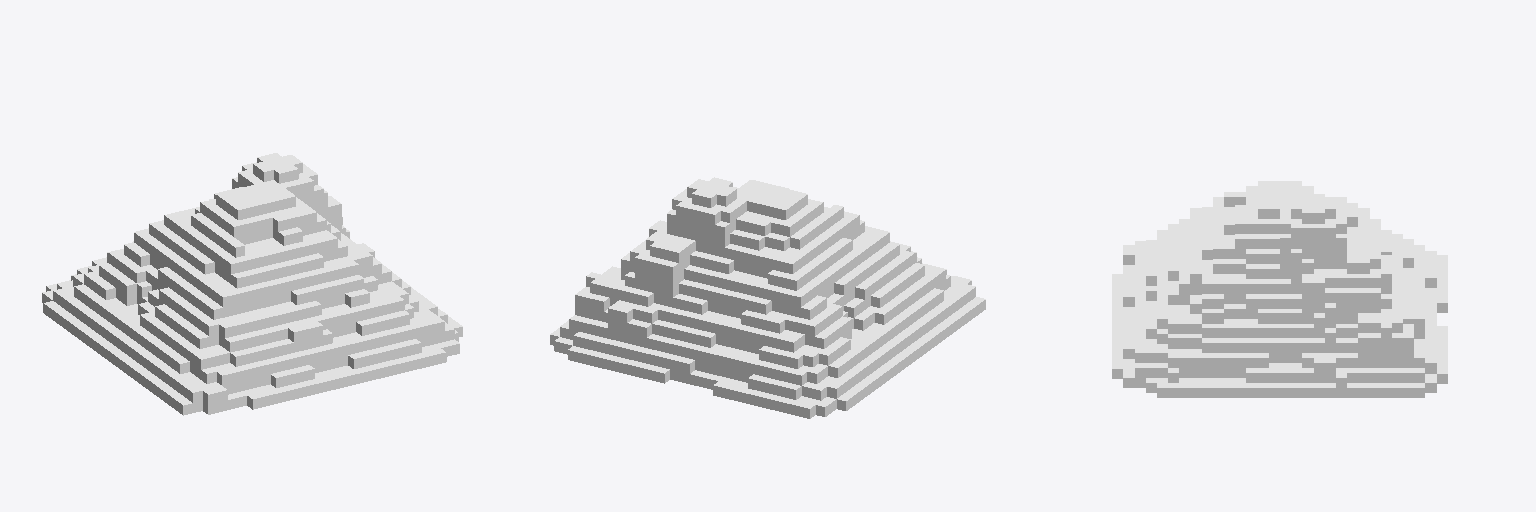
Rendered from bigcontainer_content.obj.
3 renders of one model, left to right at view 1: azimuth 30°, elevation 25°; view 2: azimuth 150°, elevation 25°; view 3: azimuth 270°, elevation 25°, orthographic.
Visible parts, largest first — view 1: object 1; view 2: object 1; view 3: object 1.
Boxes of the visible parts, <box> form: object 1: <box>42,153,462,415</box>; object 1: <box>550,177,985,418</box>; object 1: <box>1112,181,1447,397</box>.
Bounding box in the file's own units: 3 × 1.4 × 3.